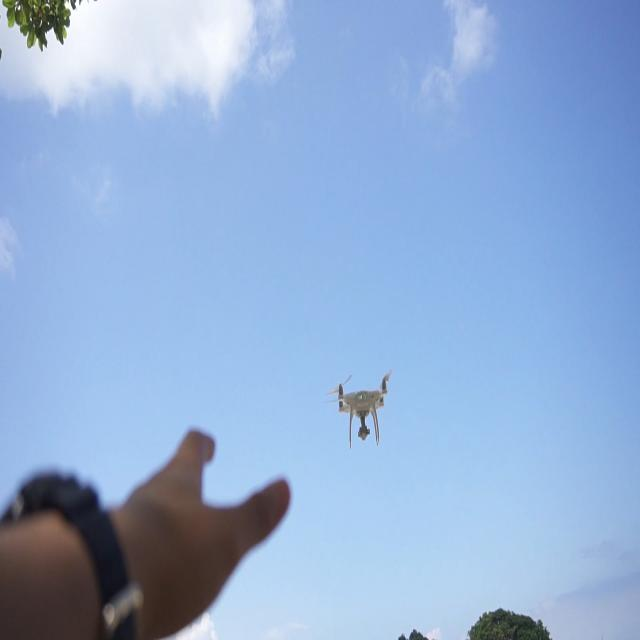Drone: (328, 367, 396, 453)
